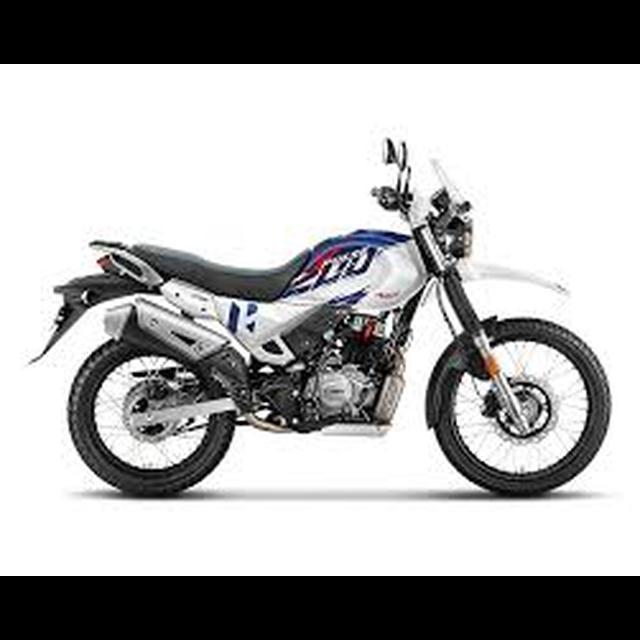motorcycle: (25, 129, 617, 499)
